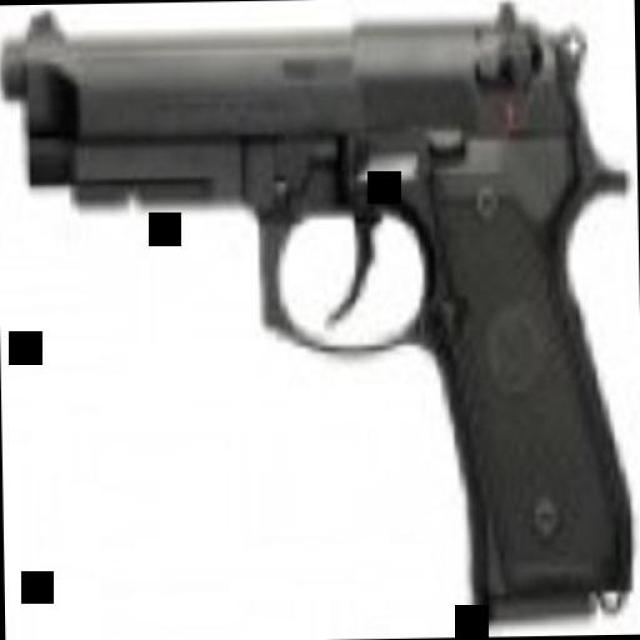gun: (1, 0, 628, 621)
